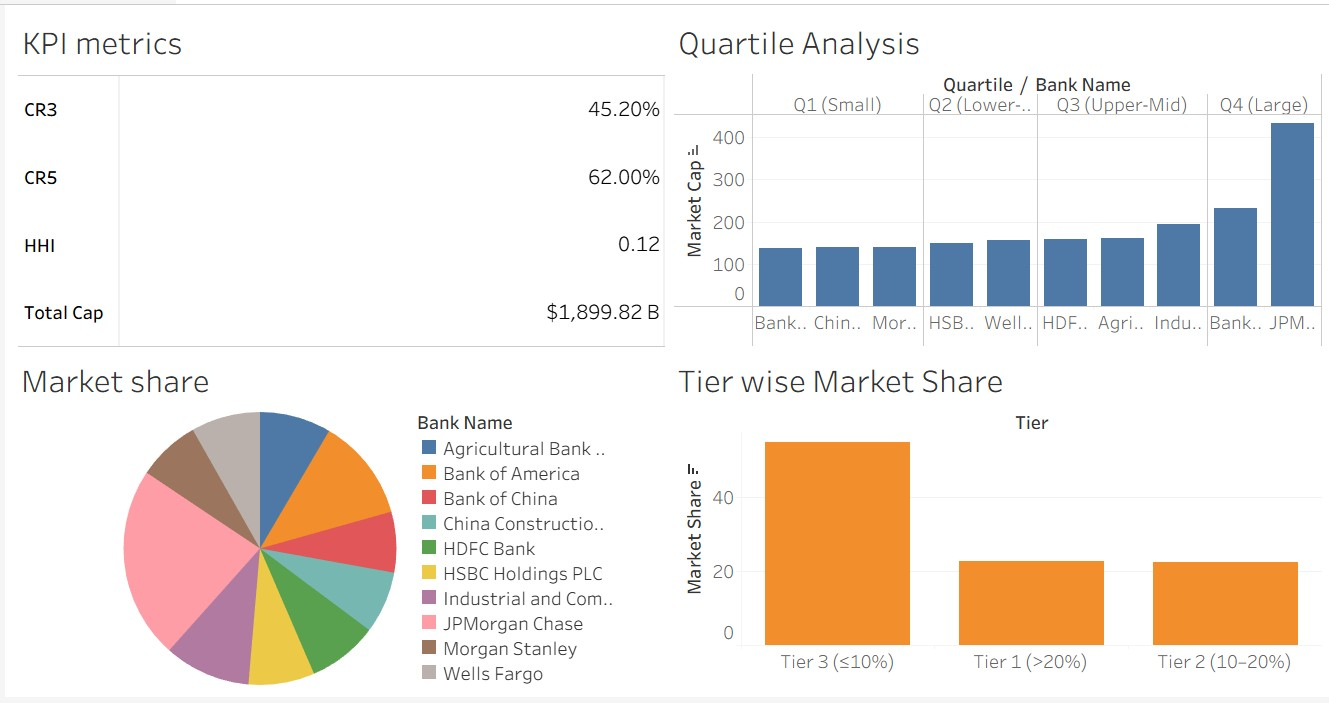

The page's visual inventory and layout, read from the dashboard file:
{"tool":"tableau","page":{"name":"Dashboard 1","canvas":[1000,1000],"units":"permille","ordinal":0},"visuals":[{"type":"worksheet","title":"Sheet 6","mark":"Text","box":[6,11.6,494,488.4]},{"type":"worksheet","title":"Sheet 5","mark":"Automatic","rows":["market_cap"],"cols":["quartile","bank_name"],"box":[500,11.6,494,488.4]},{"type":"worksheet","title":"Sheet 1","mark":"Pie","box":[6,500,494,488.4]},{"type":"worksheet","title":"Sheet 3","mark":"Automatic","rows":["market_share"],"cols":["tier"],"box":[500,500,494,488.4]},{"type":"legend","title":"Sheet 1","param":"[federated.11brul00kqo0gs1gr9azd1tohfl7].[none:bank_name:nk]","box":[310,583.8,152,398.8]}]}

Visuals, with their boxes on the dashboard's canvas, which has no fixed pixel size, in thousandths of its width and height (x1, y1, x2, y2). These are canvas units, not pixel positions in the 1329x703 screenshot, which may show the page scaled, cropped or inside an application window:
"Sheet 6" worksheet (Text marks): left=6, top=12, right=500, bottom=500
"Sheet 5" worksheet: left=500, top=12, right=994, bottom=500
"Sheet 1" worksheet (Pie marks): left=6, top=500, right=500, bottom=988
"Sheet 3" worksheet: left=500, top=500, right=994, bottom=988
"Sheet 1" legend: left=310, top=584, right=462, bottom=983
